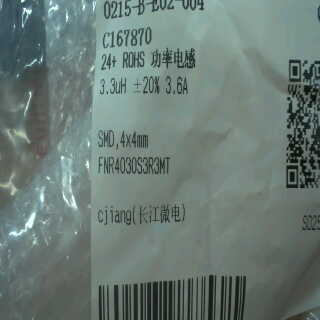3.3uH: (97, 74, 136, 98)
